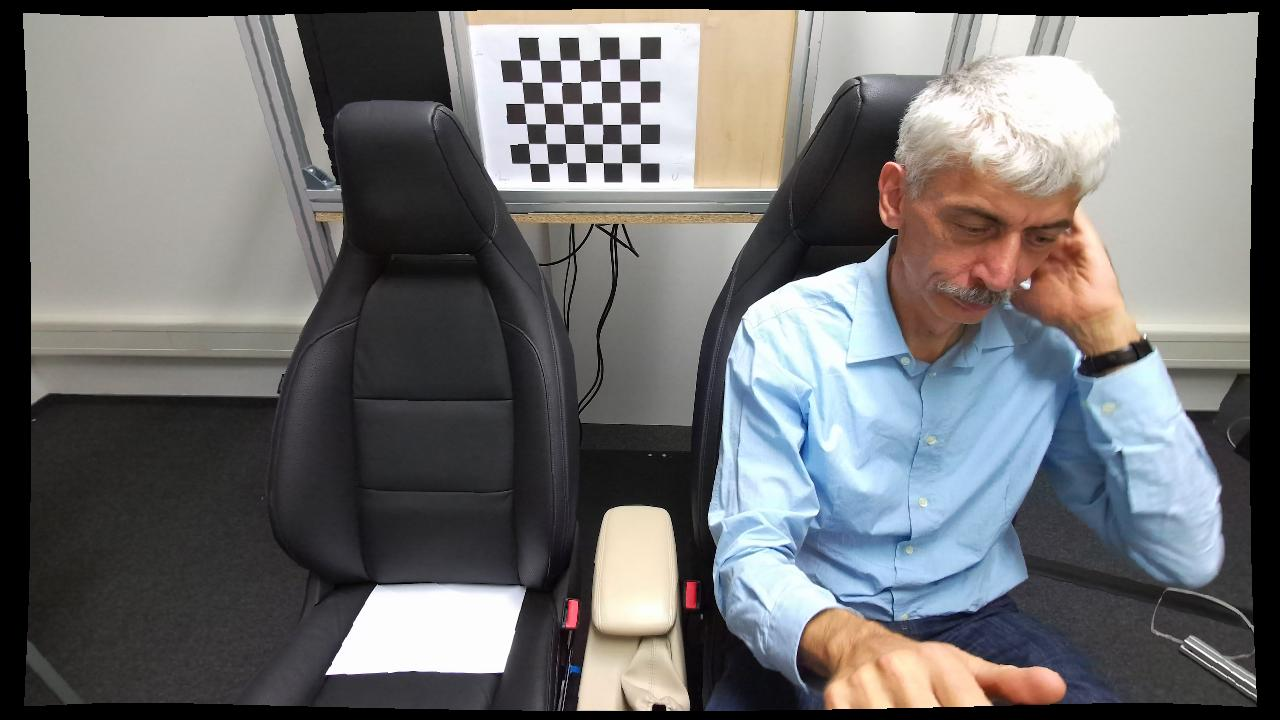Distracted: (704, 54, 1206, 711)
